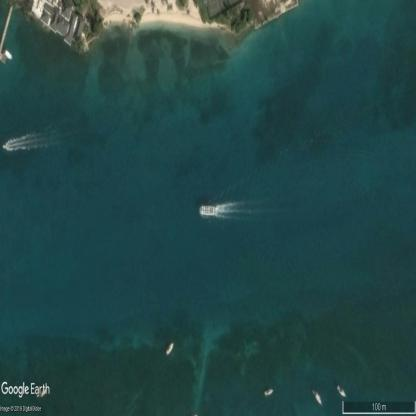ship: (200, 206, 214, 215), (337, 386, 346, 397), (3, 49, 12, 60), (166, 343, 173, 356), (316, 394, 323, 406), (264, 389, 273, 396), (3, 145, 5, 149)
